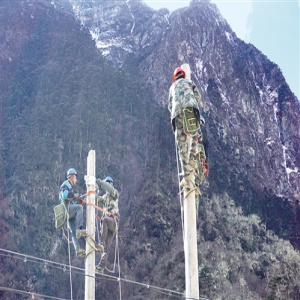blue: (67, 167, 79, 186), (105, 176, 116, 191)
red: (174, 67, 186, 83)
